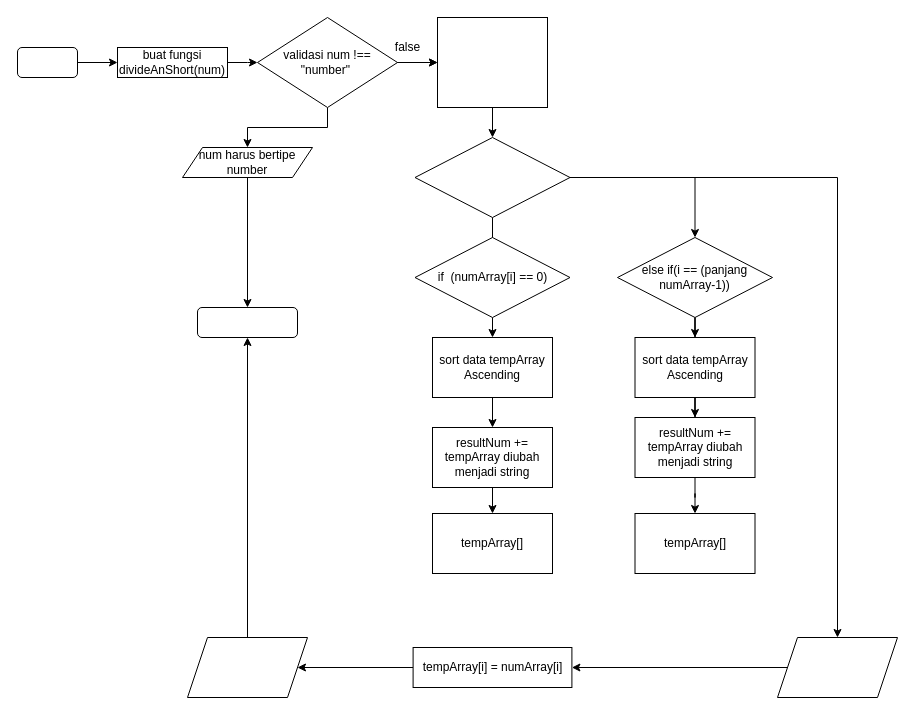
The diagram is 915 pixels wide and 715 high, and some of its shapes have lost their labels. The box of each missing label's shape, as (x1, y1, x2, y2) in pixels:
else: (776, 636, 898, 698)
for (i = 0, i < panjang numArray, i++): (414, 136, 570, 218)
mulai: (16, 46, 78, 78)
return resultNum: (186, 636, 308, 698)
selesai: (196, 306, 298, 338)
tempArray = [], numArray = ubah num menjadi array terpisah, resultNum = '': (436, 16, 548, 108)
